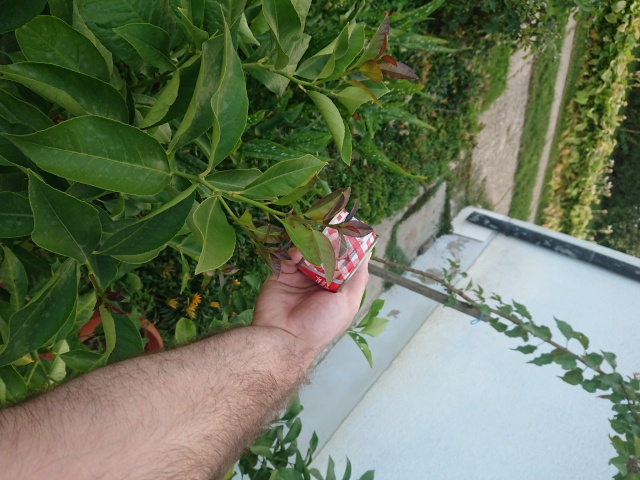Podravka Luncheon Meat 150g: (294, 205, 382, 297)
